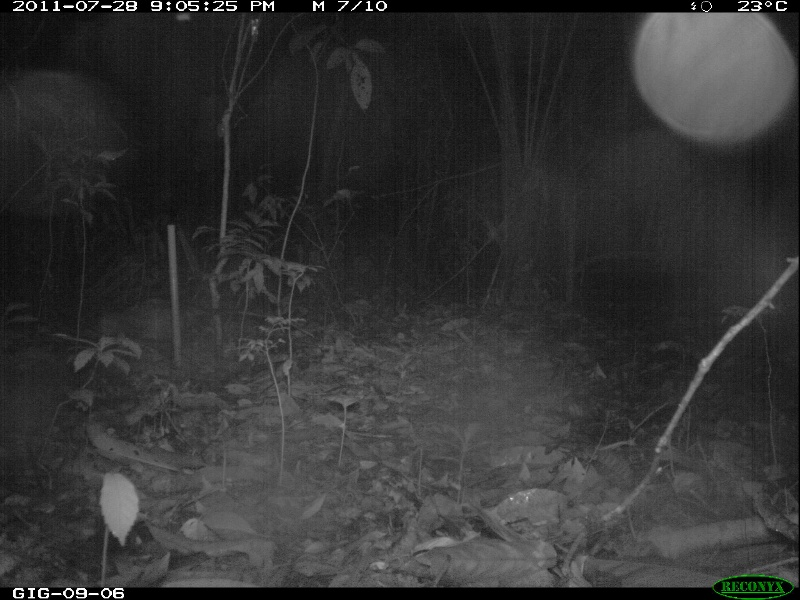opossum: (95, 286, 282, 353)
